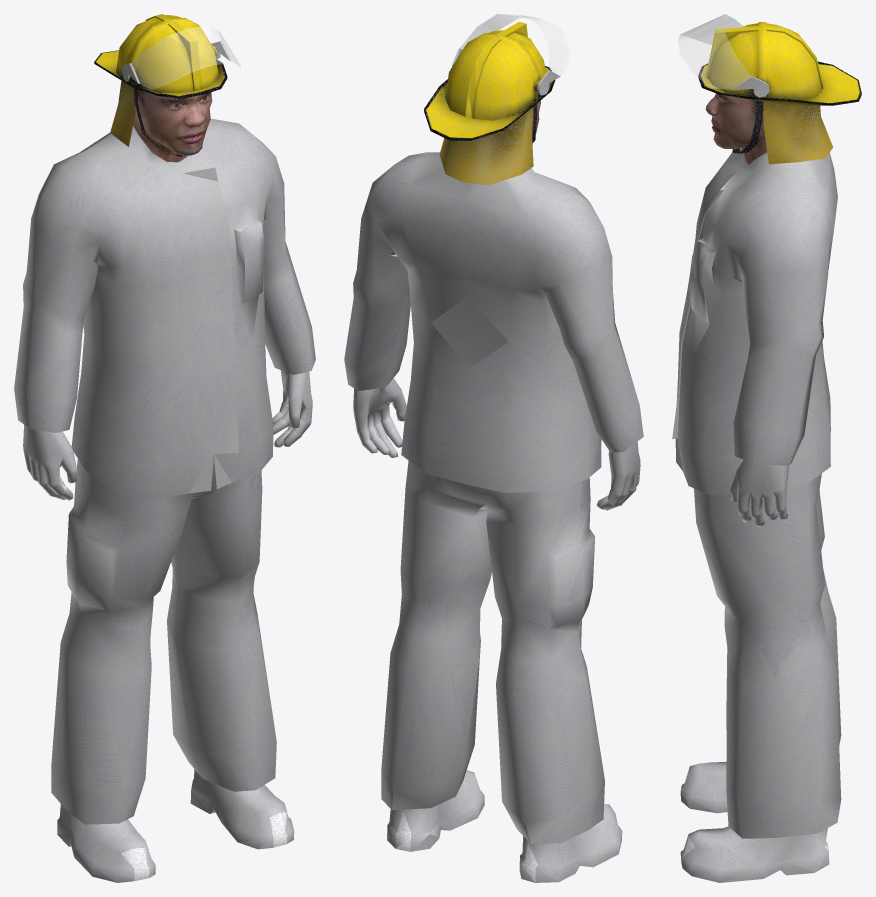
3 renders of one model, left to right at view 1: azimuth 30°, elevation 25°; view 2: azimuth 150°, elevation 25°; view 3: azimuth 270°, elevation 25°, orthographic.
Parts seen in each view (by area): view 1: rest_1 (×8); view 2: rest_1 (×6); view 3: rest_1 (×8).
Part boxes in pixels (box(x1,y1,x2,y2)): rest_1 (×8): box(14, 14, 315, 882); rest_1 (×6): box(344, 14, 643, 882); rest_1 (×8): box(672, 14, 861, 882).
Bounding box in the file's own units: 27.83 × 16.2 × 76.8.
